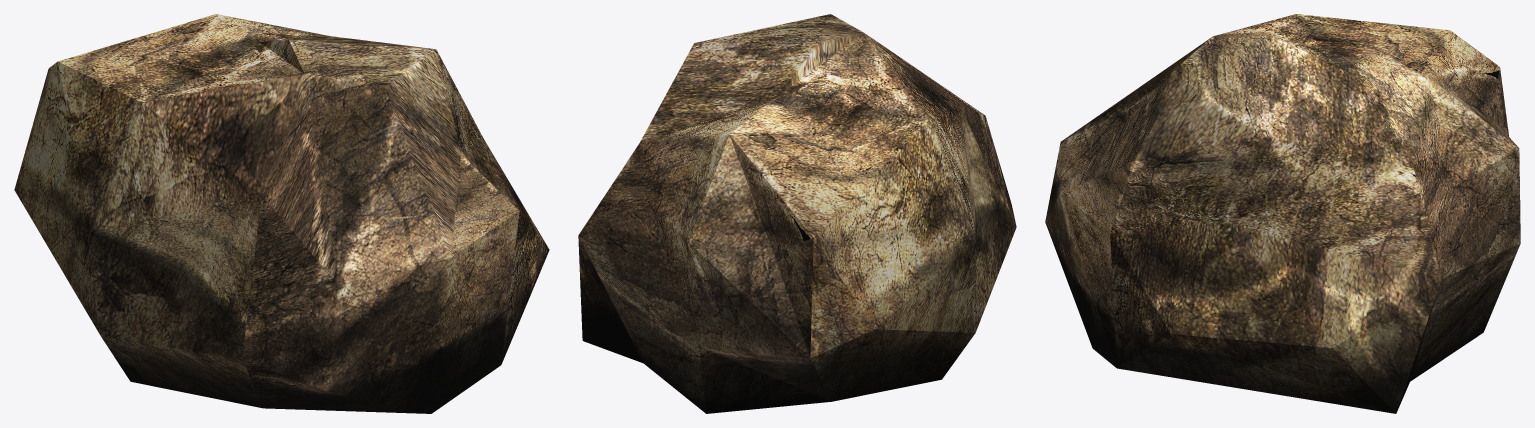
File: rock_010_LOD1.dae
The picture shows the model from 3 angles, left to right: view 1: azimuth 30°, elevation 25°; view 2: azimuth 150°, elevation 25°; view 3: azimuth 270°, elevation 25°; orthographic projection. The views are drawn at different scales.
Visible parts, largest first — view 1: Mesh_Object; view 2: Mesh_Object; view 3: Mesh_Object.
Part boxes in pixels (left/top/right/bottom): Mesh_Object: left=14, top=14, right=549, bottom=413; Mesh_Object: left=578, top=14, right=1016, bottom=413; Mesh_Object: left=1045, top=14, right=1520, bottom=413.
Size of the model in its own units: 2.68 by 2.21 by 3.
